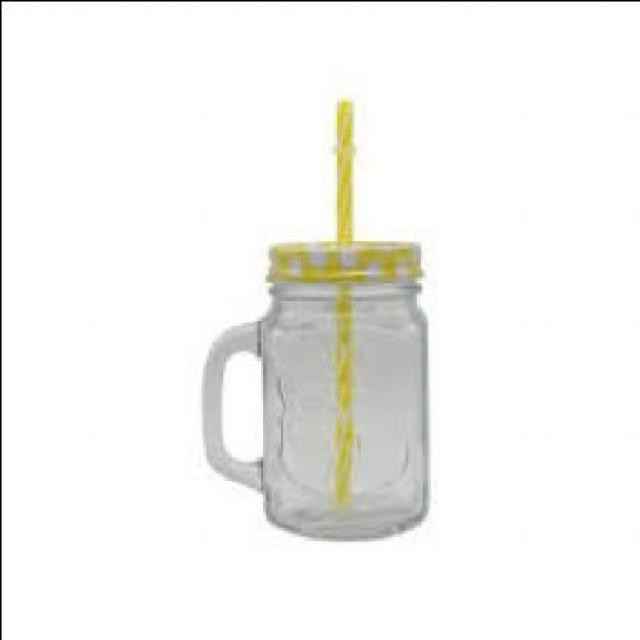GLASS: (205, 273, 429, 532)
METAL: (270, 238, 424, 282)
